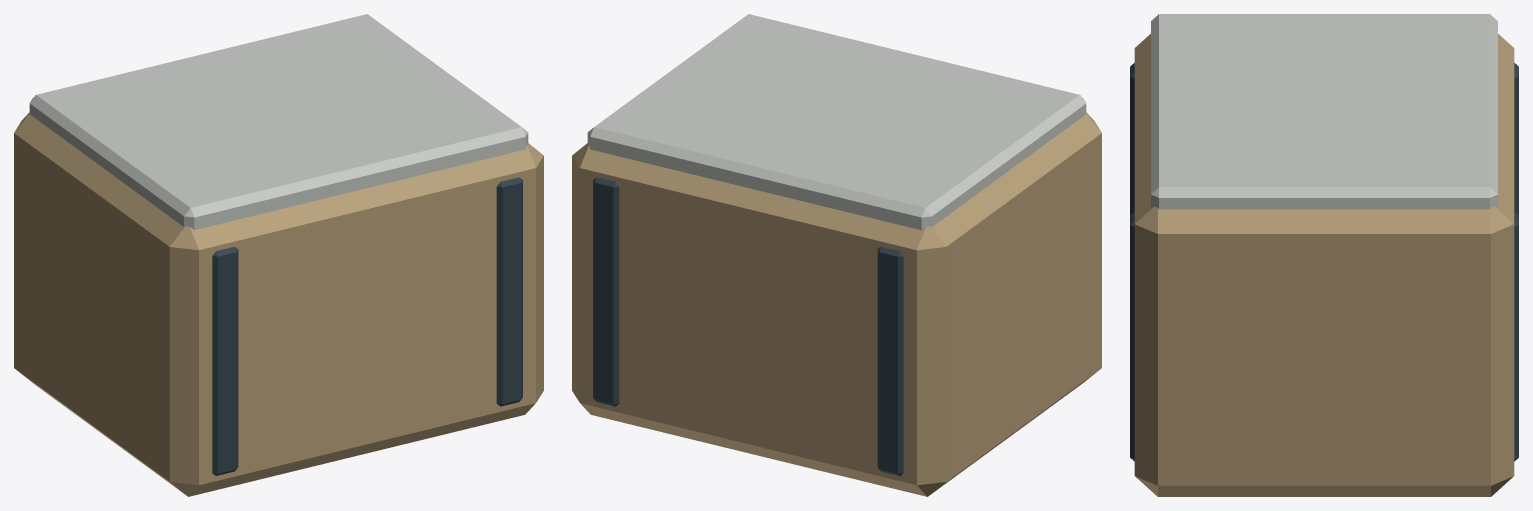
Rendered from phw_crate_m.glb.
The picture shows the model from 3 angles, left to right: view 1: azimuth 30°, elevation 25°; view 2: azimuth 150°, elevation 25°; view 3: azimuth 270°, elevation 25°; orthographic projection. The views are drawn at different scales.
Parts seen in each view (by area): view 1: body; view 2: body; view 3: body.
Part boxes in pixels (x1,y1,x2,y2): body: (14, 14, 543, 496); body: (572, 14, 1101, 496); body: (1130, 14, 1518, 496).
Bounding box in the file's own units: 0.5 × 0.3675 × 0.42.
